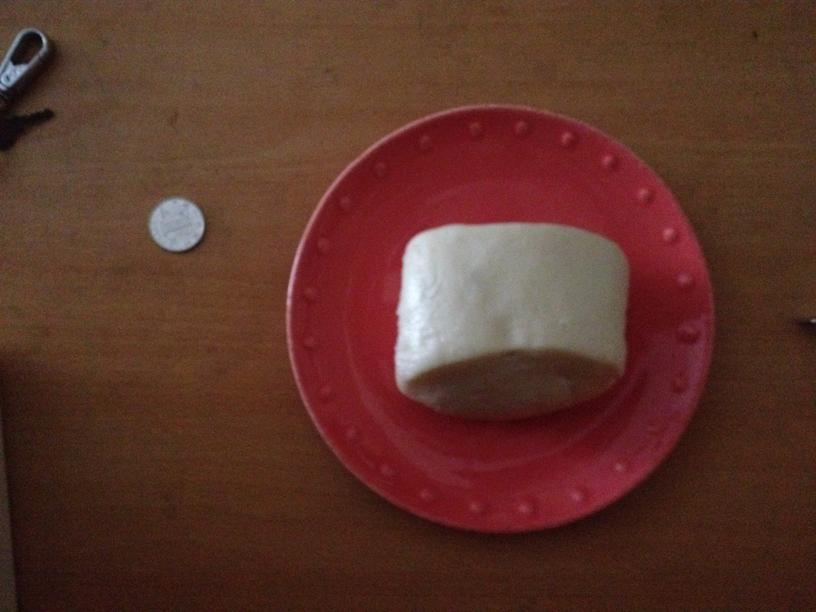bun: (398, 220, 628, 411)
coin: (149, 196, 205, 253)
